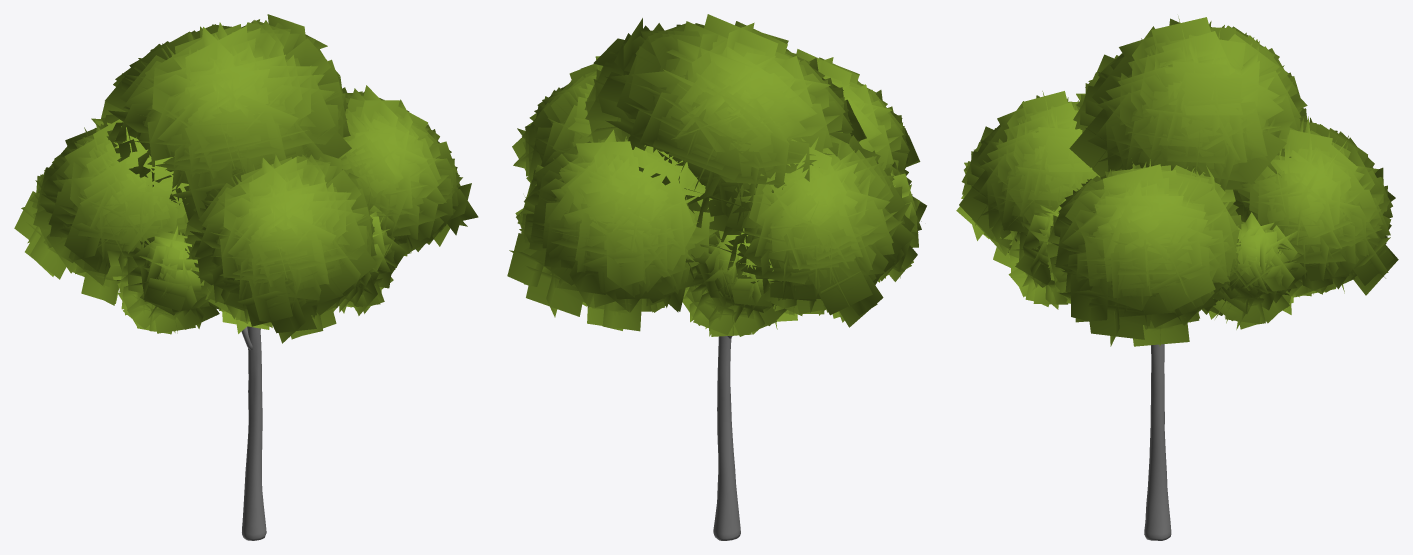
File: SM_tree_broadleaf_01.fbx
The picture shows the model from 3 angles, left to right: view 1: azimuth 30°, elevation 25°; view 2: azimuth 150°, elevation 25°; view 3: azimuth 270°, elevation 25°; orthographic projection. The views are drawn at different scales.
Visible parts, largest first — view 1: Group63279; view 2: Group63279; view 3: Group63279.
Part boxes in pixels (bbox=[...]): Group63279: bbox=[14, 14, 478, 540]; Group63279: bbox=[507, 14, 926, 540]; Group63279: bbox=[956, 16, 1398, 540].
Bounding box in the file's own units: 222 × 282 × 222.
